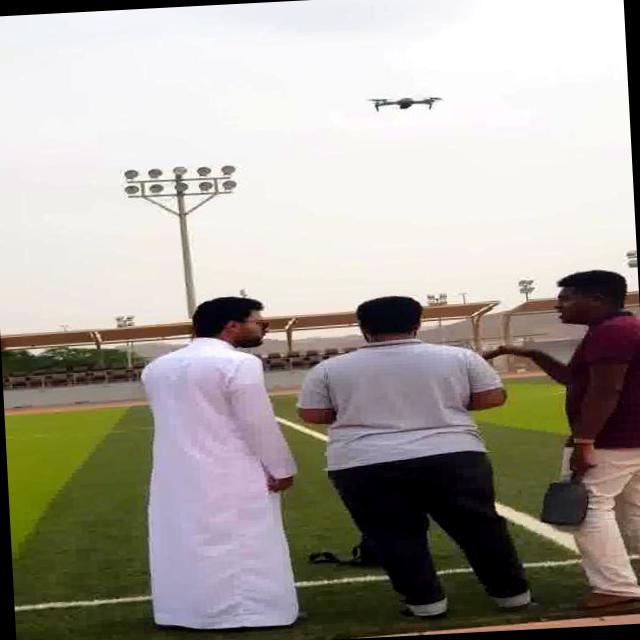drone: (359, 88, 442, 116)
